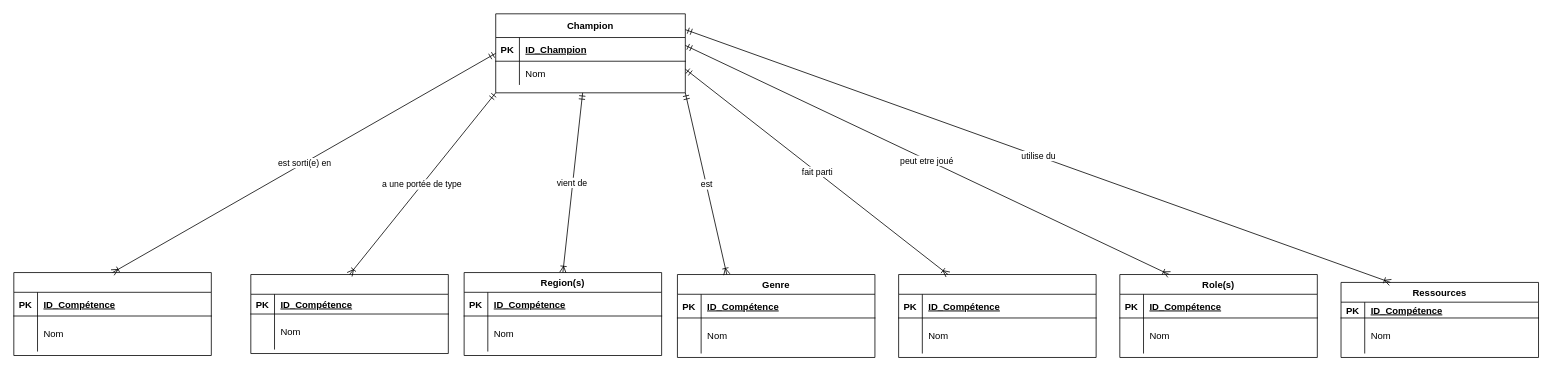
The diagram is 1552 pixels wide and 371 high, and some of its shapes have lost their labels. Here are the shapes that lost their labels. From the top down, the box of each, then its label:
(13, 272, 211, 356): Année de sortie
(250, 274, 448, 354): Portée
(898, 274, 1096, 357): Espèce(s)
